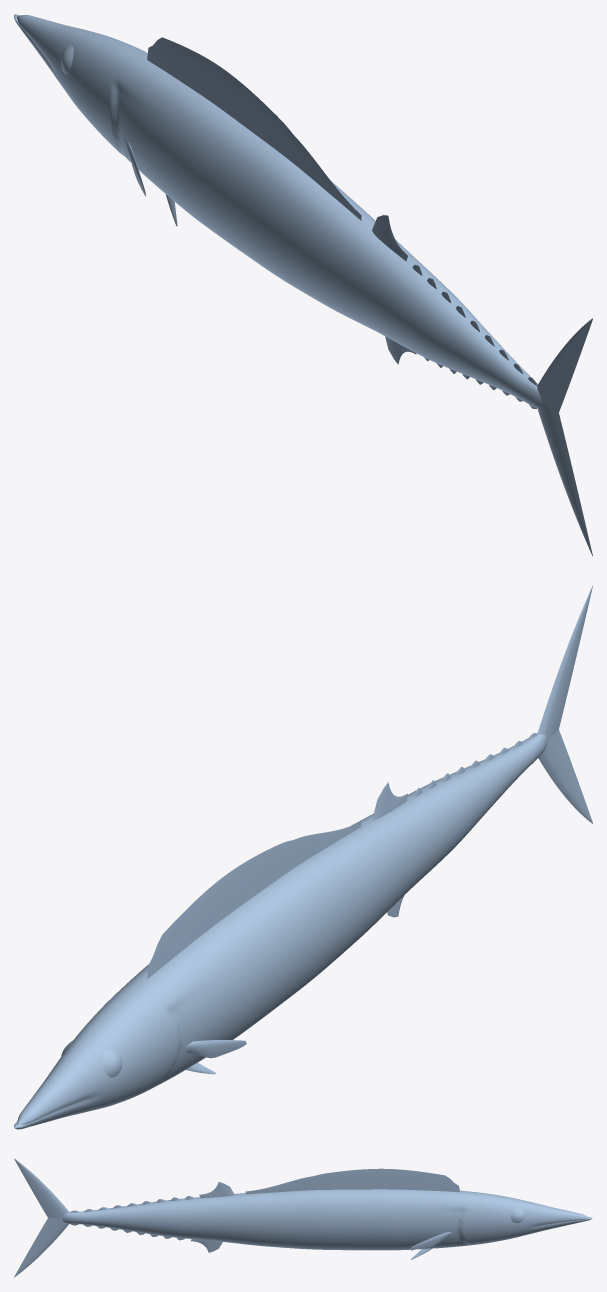
Rendered from wahoo.glb.
The picture shows the model from 3 angles, top to bottom: view 1: azimuth 30°, elevation 25°; view 2: azimuth 150°, elevation 25°; view 3: azimuth 270°, elevation 25°; orthographic projection. The views are drawn at different scales.
Visible parts, largest first — view 1: wahoo; view 2: wahoo; view 3: wahoo.
Boxes of the visible parts, bbox=[...] form: wahoo: bbox=[14, 14, 592, 556]; wahoo: bbox=[14, 586, 592, 1129]; wahoo: bbox=[14, 1158, 592, 1277].
Bounding box in the file's own units: 0.1807 × 0.4091 × 1.8.
